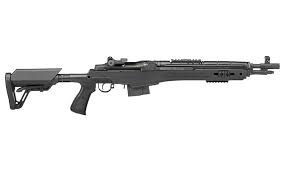Gun: (85, 55, 237, 94)
